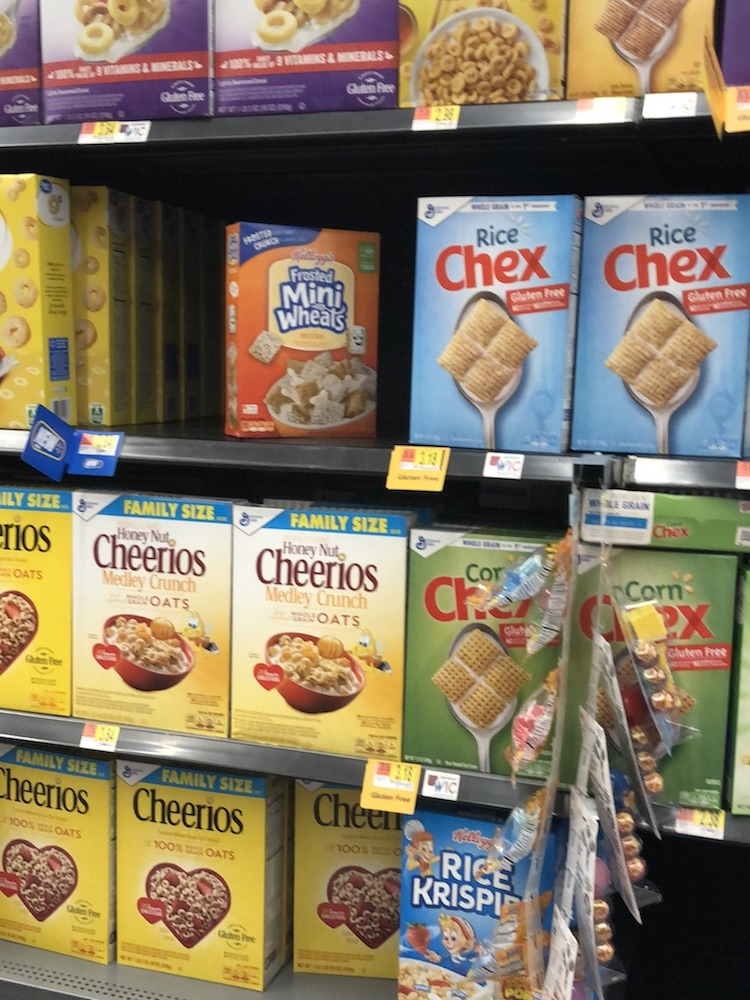Frosted Mini Original -9295869: (235, 226, 383, 437)
